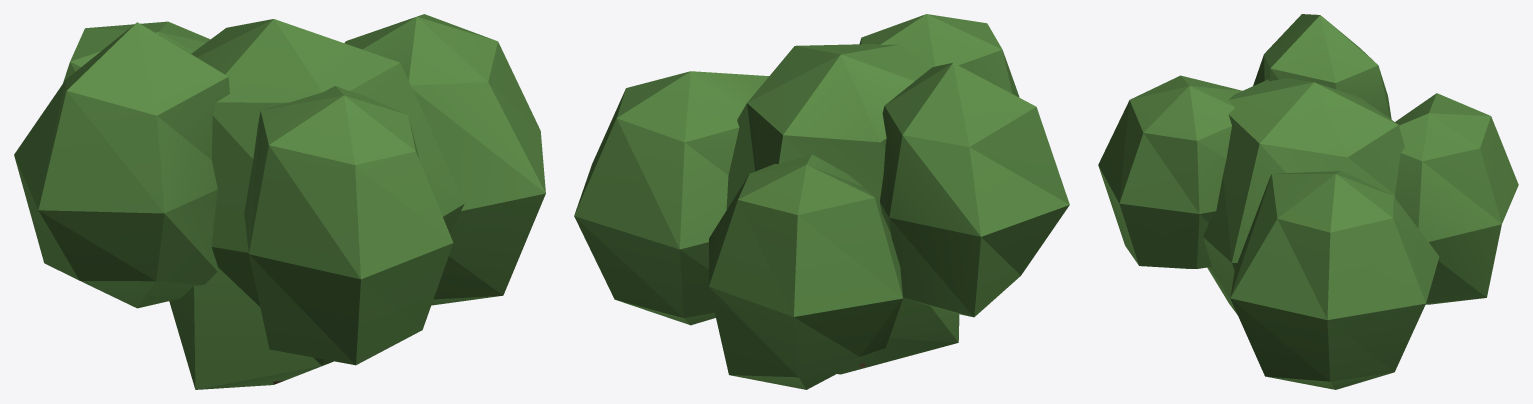
The model's file is hazel_1.glb.
3 views of the same model, side by side, from view 1: azimuth 30°, elevation 25°; view 2: azimuth 150°, elevation 25°; view 3: azimuth 270°, elevation 25° (orthographic). The views are drawn at different scales.
Visible parts, largest first — view 1: hazel_1; view 2: hazel_1; view 3: hazel_1.
Part boxes in pixels (x1=…): hazel_1: x1=14, y1=14, x2=545, y2=389; hazel_1: x1=574, y1=14, x2=1069, y2=389; hazel_1: x1=1098, y1=14, x2=1518, y2=389.
Bounding box in the file's own units: 2.57 × 1.83 × 2.4.
